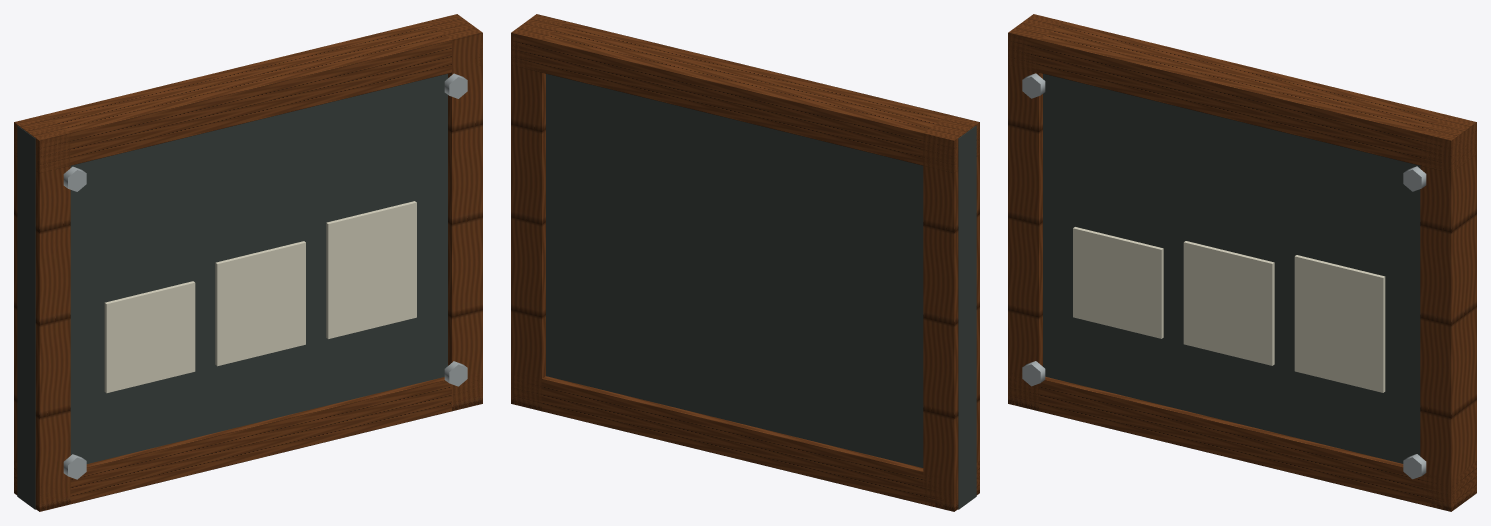
Rendered from fortified-compound-expansion-checkpoint-notice-frame-727150a2__27137.glb.
3 renders of one model, left to right at view 1: azimuth 30°, elevation 25°; view 2: azimuth 150°, elevation 25°; view 3: azimuth 330°, elevation 25°, orthographic.
Visible parts, largest first — view 1: checkpoint-notice-frame; view 2: checkpoint-notice-frame; view 3: checkpoint-notice-frame.
Boxes of the visible parts, x1=… form: checkpoint-notice-frame: x1=14, y1=14, x2=482, y2=511; checkpoint-notice-frame: x1=511, y1=14, x2=979, y2=511; checkpoint-notice-frame: x1=1008, y1=14, x2=1476, y2=511.
Size of the model in its own units: 1 by 0.8012 by 0.128.
4 materials, 1 textured.
